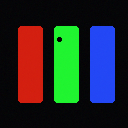0 point: (57, 37, 61, 41)
